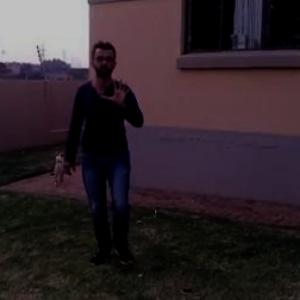follow_hand: (100, 72, 135, 108)
